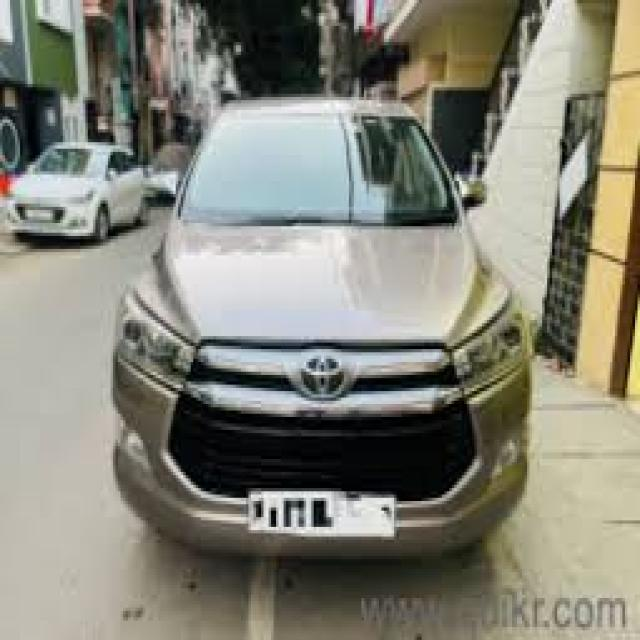light_vehicle: (112, 97, 533, 558)
